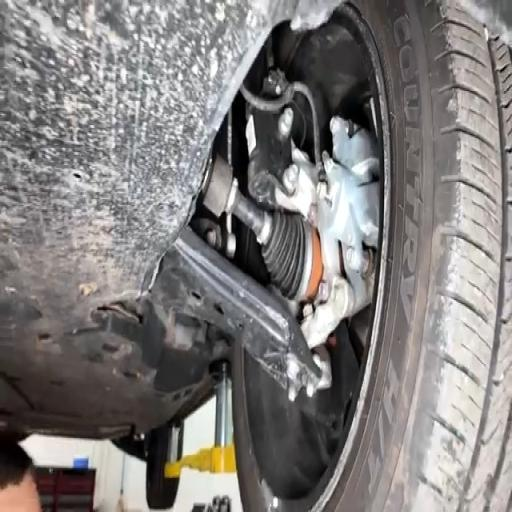tire: (232, 0, 511, 511), (146, 426, 179, 510)
wheel: (232, 0, 511, 511), (147, 424, 183, 510)
